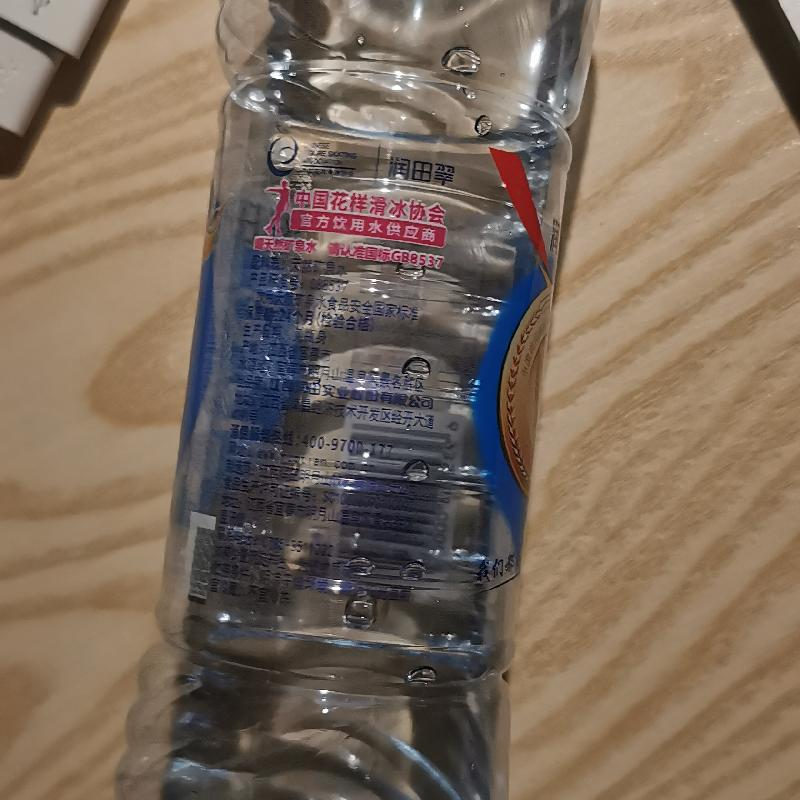bottles: (111, 5, 599, 799)
